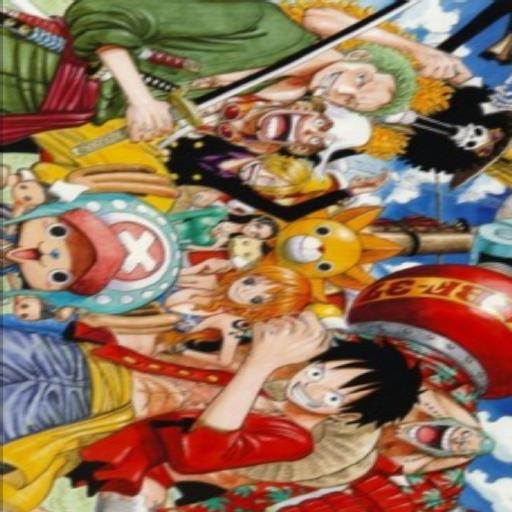Luffy: (279, 338, 420, 432)
Nami: (218, 262, 322, 324)
NicoRobin: (224, 212, 286, 244)
Usopp: (236, 101, 373, 158)
Zoro: (306, 52, 418, 124)
sanji: (234, 154, 304, 202)
